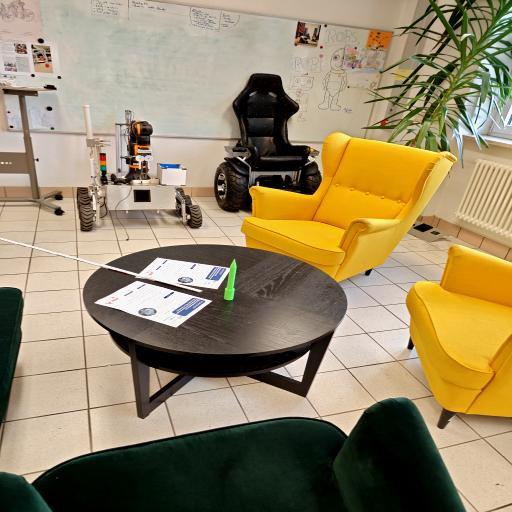Probe-Detection: (224, 259, 237, 300)
